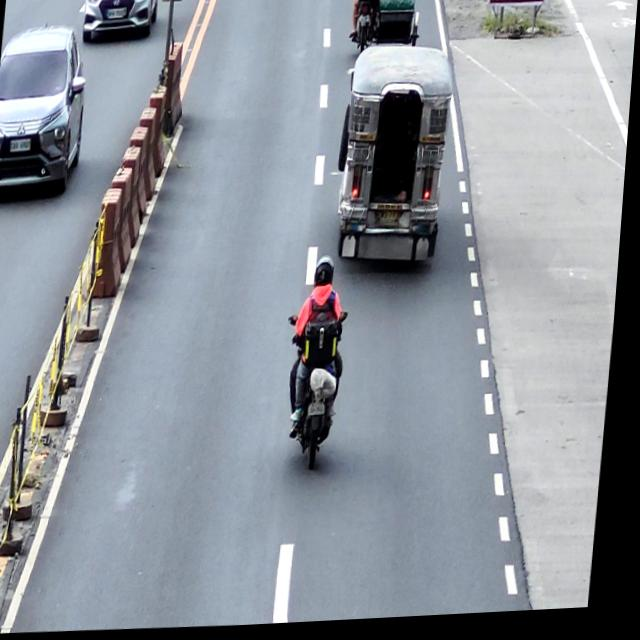Car: (0, 20, 94, 195), (80, 0, 160, 41)
Jeep: (333, 46, 458, 272)
License-Plate: (377, 212, 404, 232), (11, 137, 33, 152), (313, 404, 332, 420), (107, 8, 124, 20), (360, 17, 371, 27)
Motorcycle: (282, 313, 354, 476)
Tricycle: (351, 0, 423, 56)
